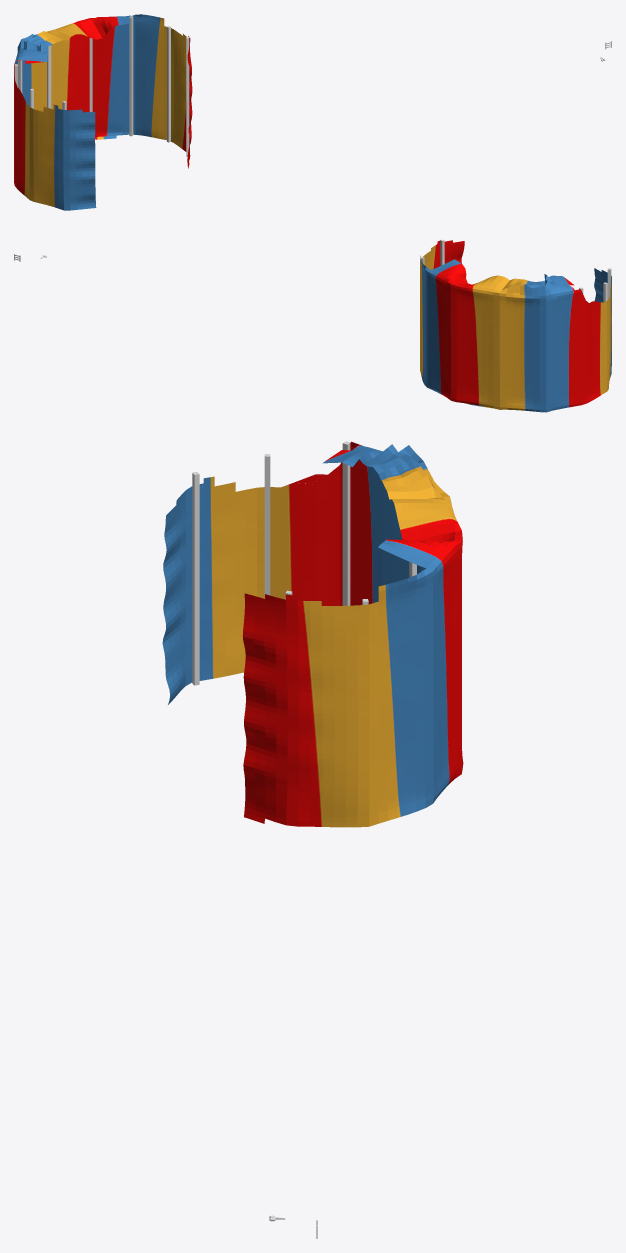
The model's file is Tent.fbx.
3 views of the same model, one above another, from view 1: azimuth 30°, elevation 25°; view 2: azimuth 150°, elevation 25°; view 3: azimuth 270°, elevation 25° (orthographic). The views are drawn at different scales.
Parts seen in each view (by area): view 1: Tent.001, Cube.001; view 2: Tent.001, Cube.001; view 3: Tent.001, Cube.001.
Boxes of the visible parts, box(x1,y1,x2,y2) form: Tent.001: box(14, 14, 192, 210); Cube.001: box(14, 16, 189, 156); Tent.001: box(420, 240, 611, 412); Cube.001: box(420, 239, 611, 302); Tent.001: box(162, 441, 463, 827); Cube.001: box(192, 441, 416, 825).
Bounding box in the file's own units: 9419 × 1986 × 2112.
